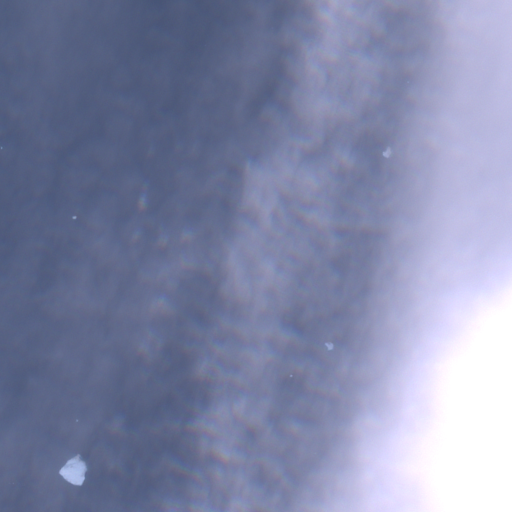Iceberg: (58, 454, 86, 485), (383, 147, 390, 157), (325, 343, 332, 349), (72, 216, 76, 218), (76, 419, 78, 421), (1, 147, 2, 148), (290, 375, 291, 376)
